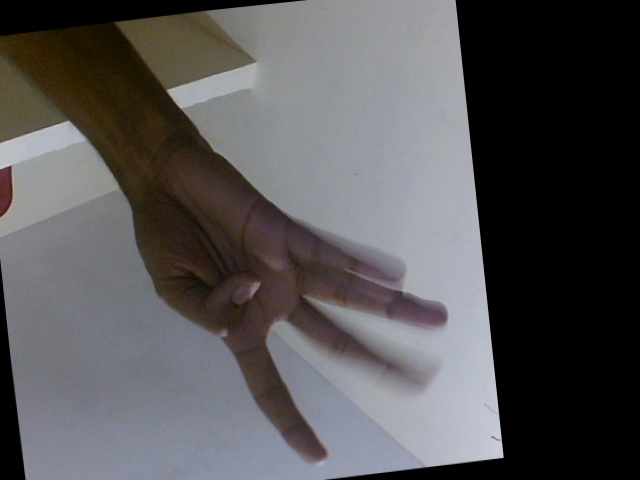hand: (108, 145, 457, 464)
